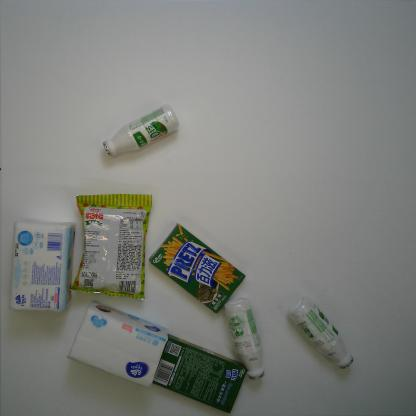Dessert: (149, 223, 246, 313), (152, 334, 247, 414)
Milk: (287, 296, 354, 370), (102, 104, 179, 156), (224, 297, 266, 380)
Puffed Food: (70, 193, 152, 300)
Tissue: (66, 300, 170, 390), (9, 220, 77, 314)
